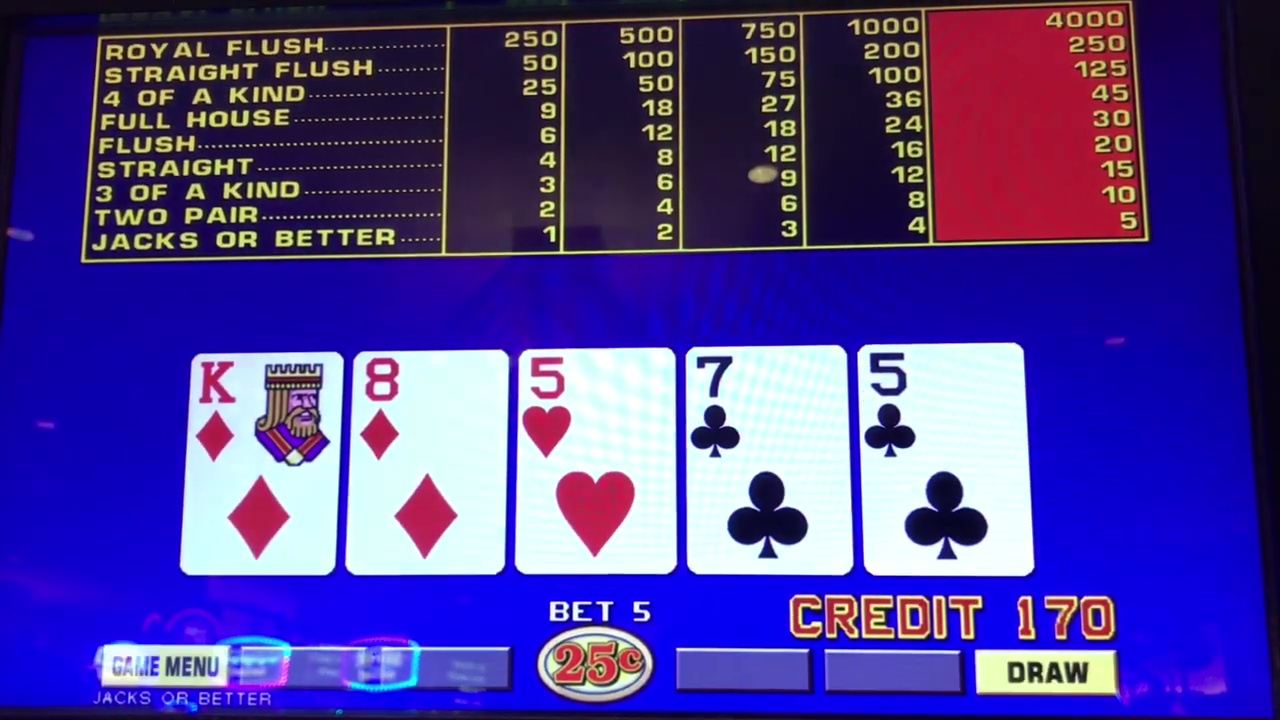C5: (868, 346, 1022, 457)
C7: (690, 349, 845, 460)
DK: (198, 354, 335, 464)
DT: (358, 357, 499, 461)
H5: (522, 353, 670, 462)
